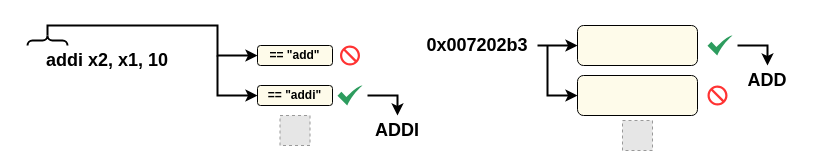
This 814x168 diagram has some shape labels left out. Grey dashed boxes stand in for pictures. The centre of each missing label's shape, as x and y in pixels:
"x & 0x0000707F == 0x00000013" belongs at pixel 637 95.
"x & 0xFE00707F == 0x00000033" belongs at pixel 637 45.
